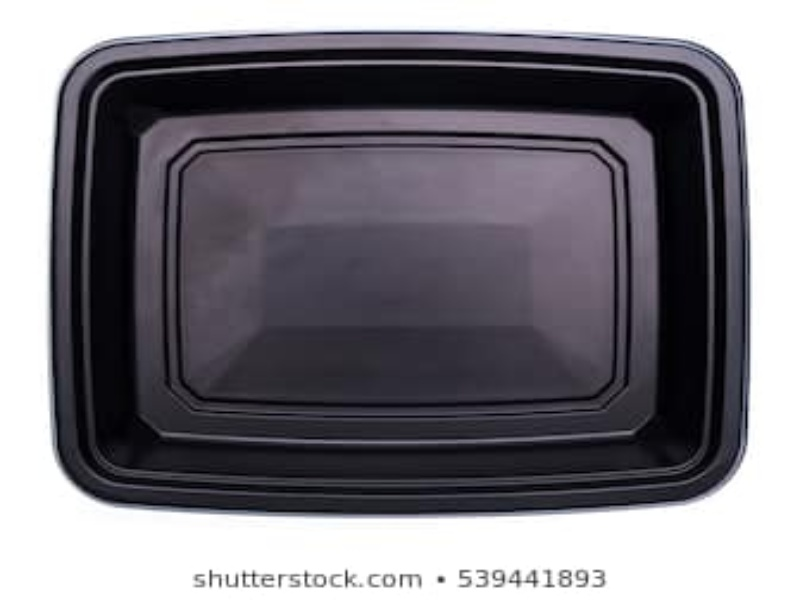plastic-tray: (41, 34, 752, 513)
